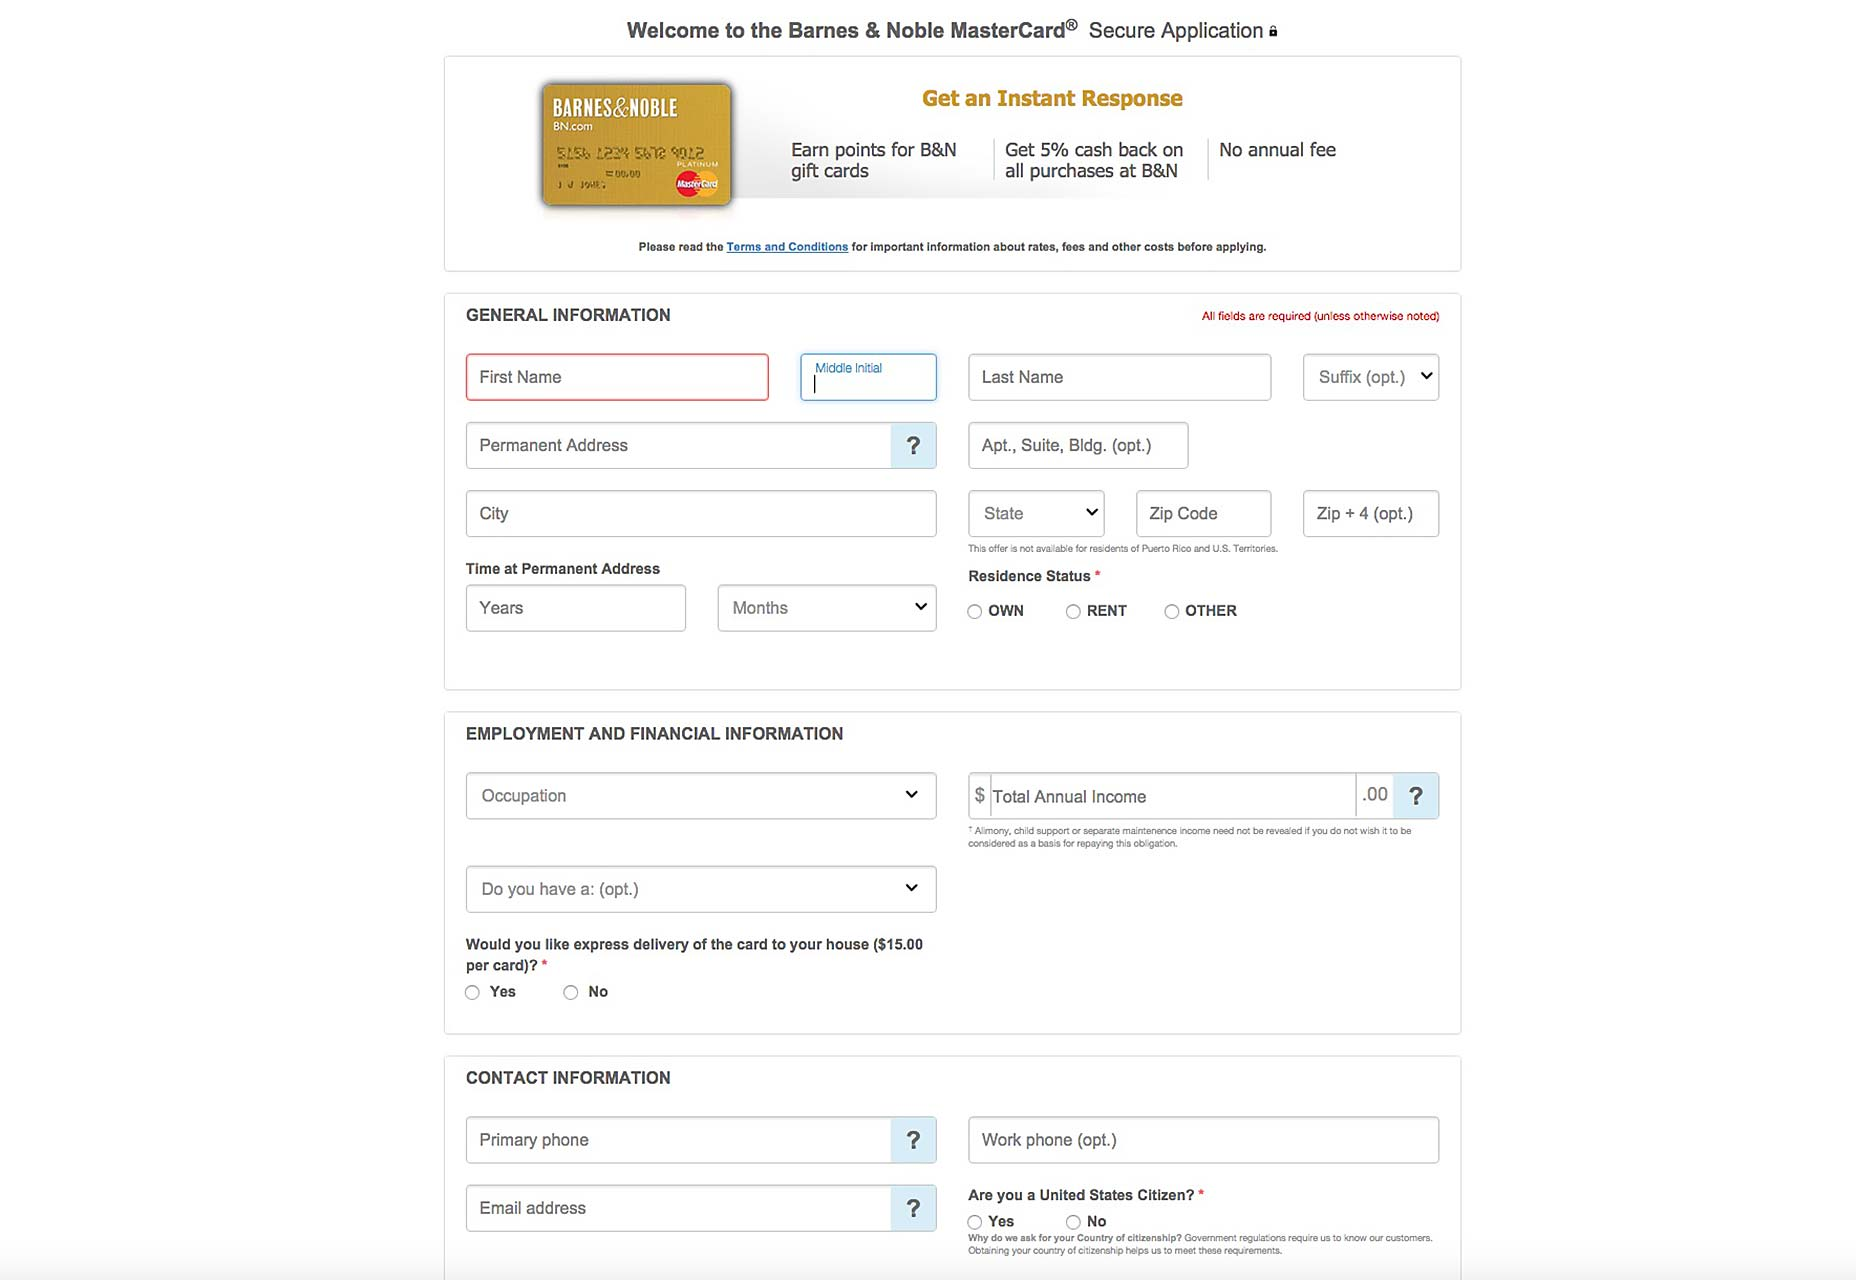_form_: (951, 271, 1460, 691), (440, 266, 948, 687), (440, 757, 948, 1177), (958, 756, 1465, 1176), (439, 843, 946, 1263), (960, 842, 1463, 1262)
field: (464, 1183, 941, 1233), (464, 420, 941, 469), (465, 489, 939, 539), (464, 1115, 938, 1164), (464, 866, 939, 913), (967, 1116, 1443, 1164), (465, 773, 939, 820), (967, 773, 1440, 820), (464, 351, 771, 403), (966, 354, 1274, 402), (716, 584, 938, 633), (969, 421, 1190, 469), (465, 584, 685, 632), (800, 351, 941, 402), (1134, 489, 1274, 539), (1303, 352, 1440, 402), (1303, 489, 1439, 539), (967, 491, 1106, 539)
field_with_label: (463, 561, 690, 634)
radio: (463, 983, 489, 1007), (966, 1211, 991, 1235), (564, 983, 587, 1007), (965, 602, 984, 624), (1065, 601, 1085, 622), (1069, 1212, 1089, 1233), (1165, 601, 1182, 622)
radio_with_label: (1161, 596, 1238, 626), (1061, 596, 1128, 626), (959, 598, 1025, 626), (456, 978, 513, 1009), (962, 1207, 1017, 1239), (560, 978, 611, 1009), (1063, 1208, 1111, 1238)
